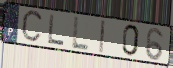0: (121, 24, 140, 59)
6: (145, 26, 164, 63)
C: (20, 9, 45, 46)
I: (99, 19, 107, 55)
L: (71, 16, 91, 52), (47, 14, 66, 47)
